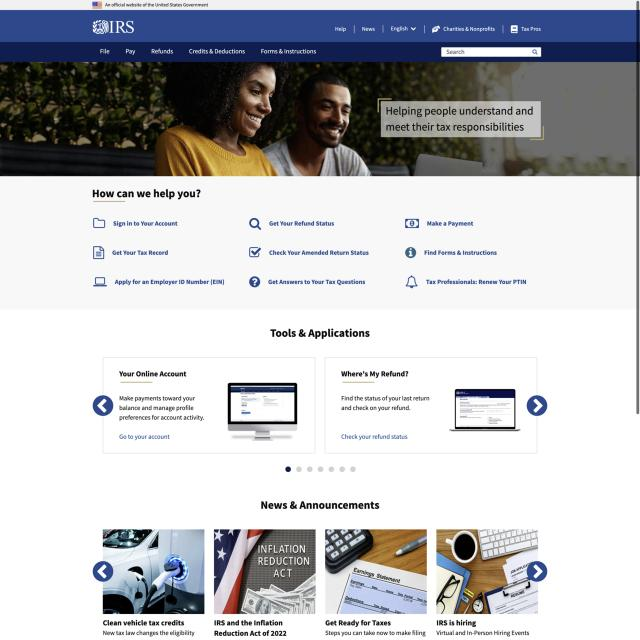logo: (90, 18, 137, 36)
navigation: (90, 212, 530, 292), (98, 46, 317, 56), (332, 24, 542, 34)
